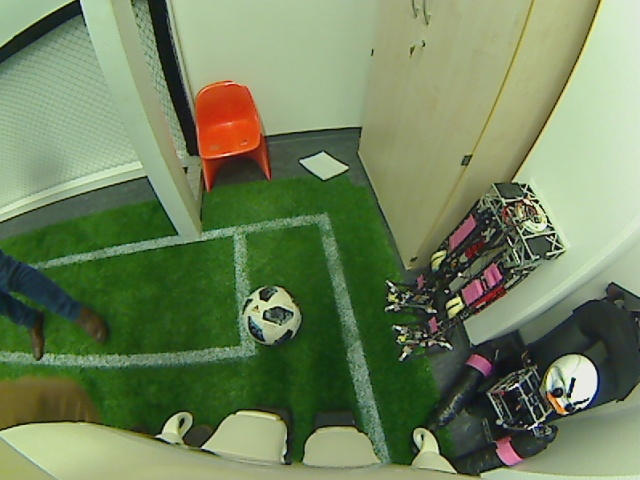ball: (241, 282, 303, 348)
